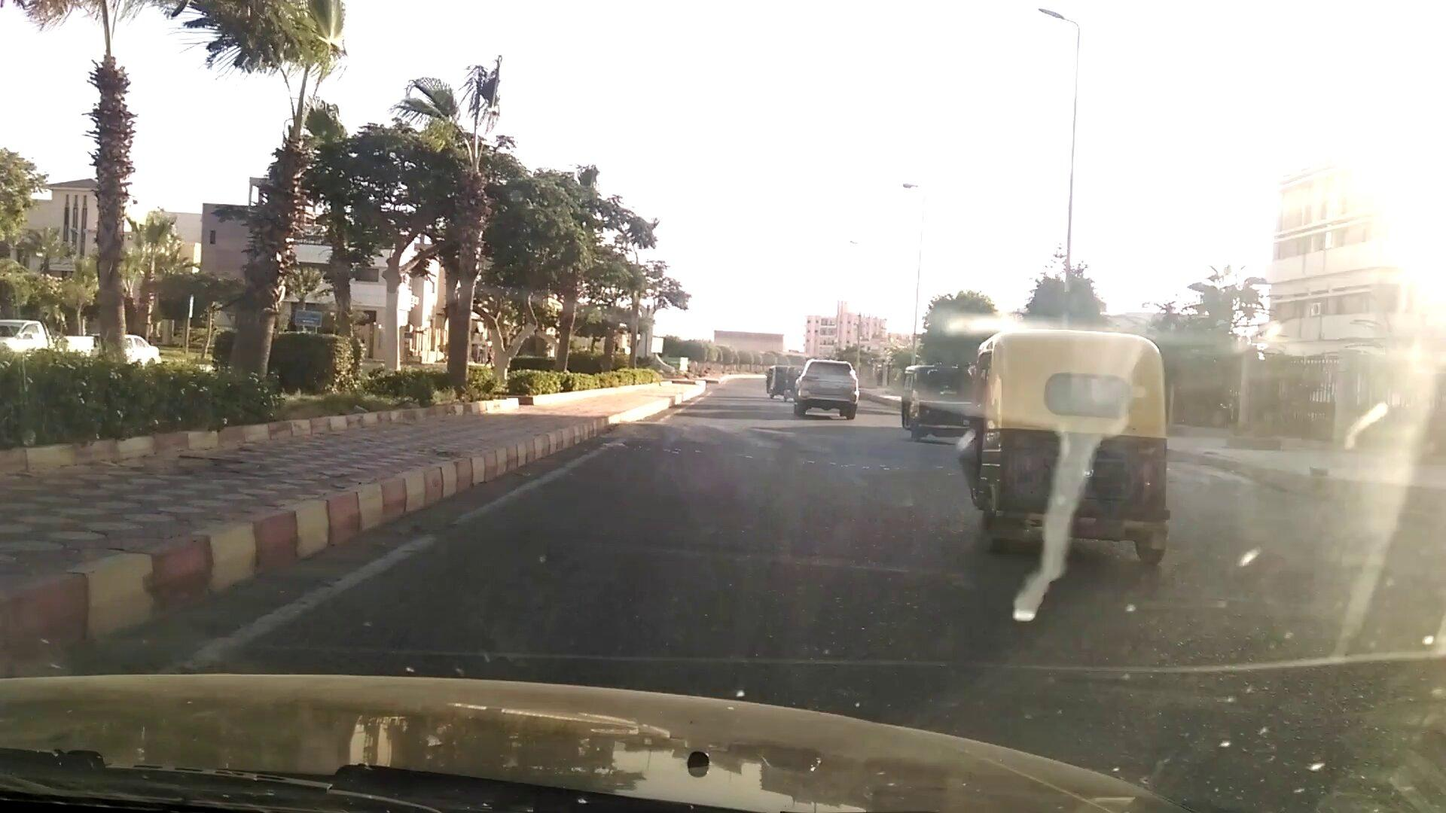Bump: (618, 414, 921, 452)
